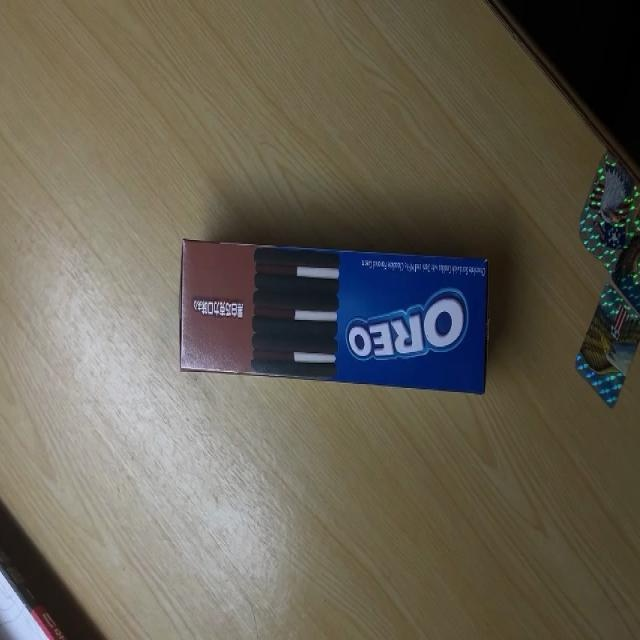Oreo: (177, 237, 490, 397)
